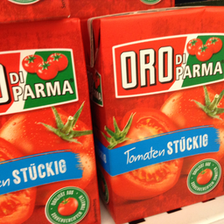tomato_sauce: (87, 5, 224, 223), (1, 17, 103, 223)
